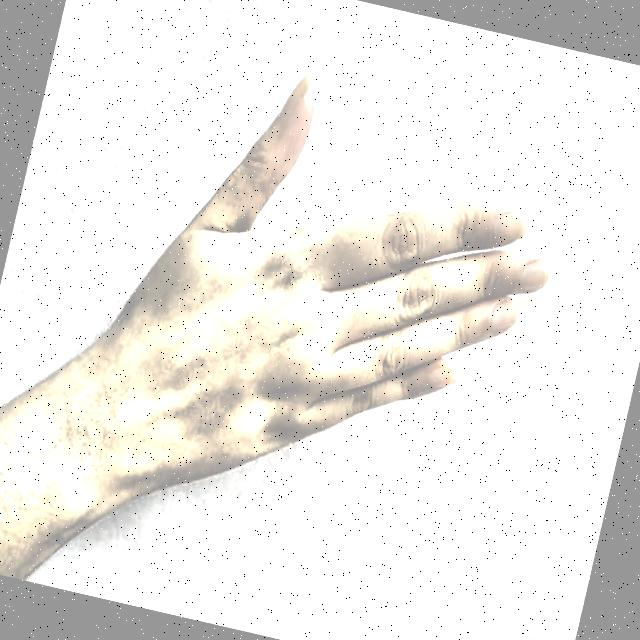Aa: (51, 4, 610, 603)
